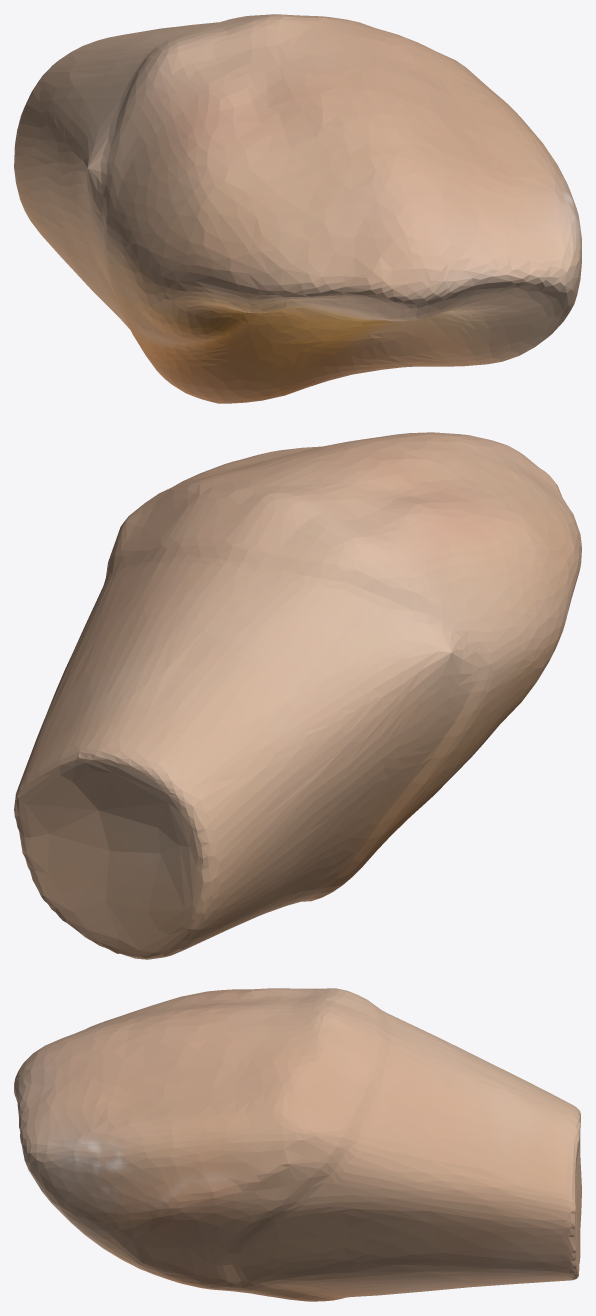
File: local_t33_7780.OBJ
3 views of the same model, one above another, from view 1: azimuth 30°, elevation 25°; view 2: azimuth 150°, elevation 25°; view 3: azimuth 270°, elevation 25° (orthographic). The views are drawn at different scales.
Visible parts, largest first — view 1: ZBrush_defualt_group; view 2: ZBrush_defualt_group; view 3: ZBrush_defualt_group.
Boxes of the visible parts, box(x1,y1,x2,y2) form: ZBrush_defualt_group: box(14, 14, 581, 403); ZBrush_defualt_group: box(14, 432, 581, 959); ZBrush_defualt_group: box(14, 988, 581, 1301).
Size of the model in its own units: 7.33 by 6.84 by 11.95.
1 material, 1 textured.
